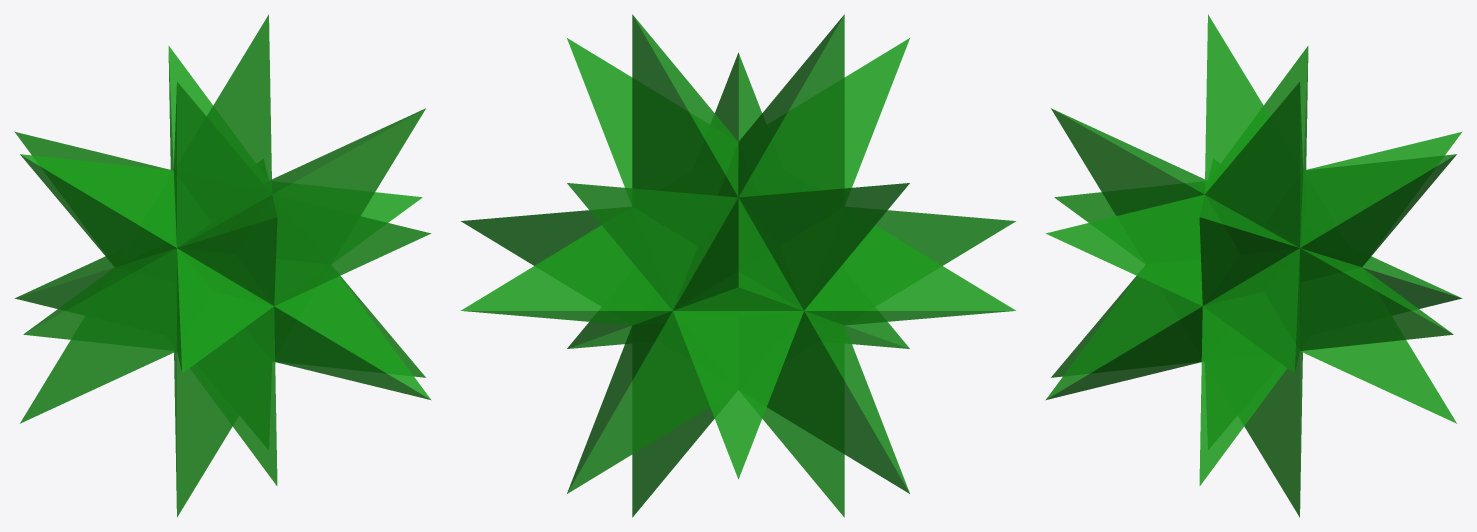
Rendered from fractalgreatstellateddodecahedron0.glb.
3 renders of one model, left to right at view 1: azimuth 30°, elevation 25°; view 2: azimuth 150°, elevation 25°; view 3: azimuth 270°, elevation 25°, orthographic. The views are drawn at different scales.
Bounding box in the file's own units: 10.97 × 10.38 × 8.99.
